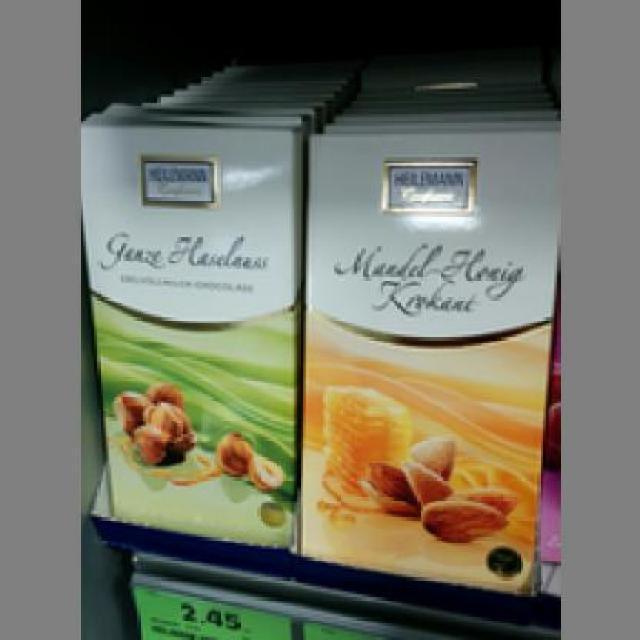Chocolate bar: (295, 123, 554, 588), (77, 111, 297, 540)
